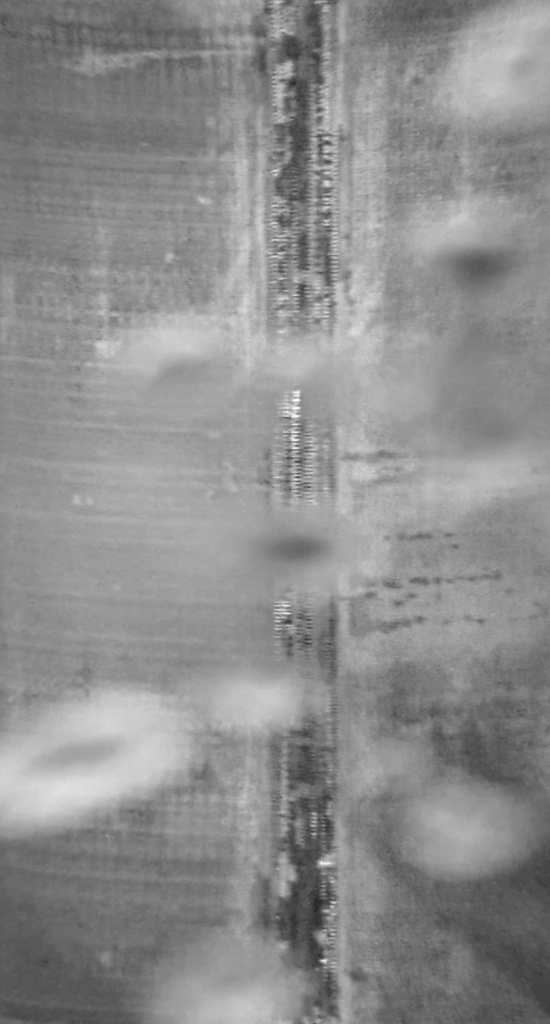splice: (253, 1, 350, 1021)
